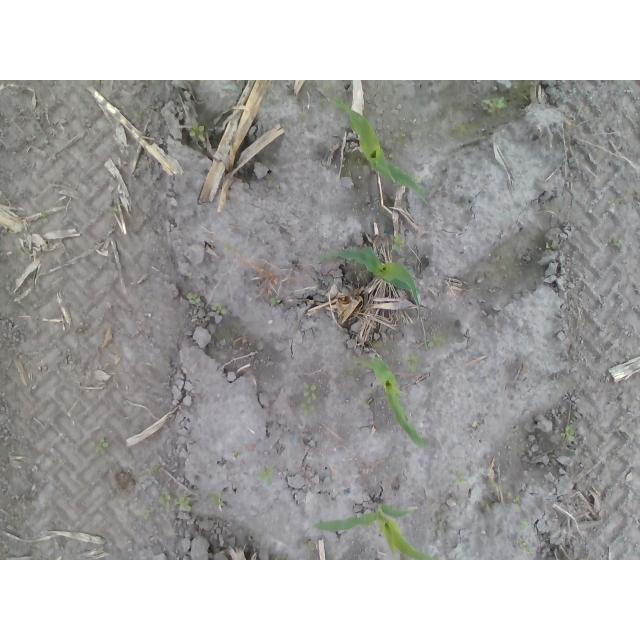Maize: (319, 97, 430, 204), (313, 247, 424, 313), (352, 357, 427, 452), (313, 505, 438, 560)
Weeds: (253, 464, 275, 484), (482, 96, 505, 113), (88, 437, 109, 454), (403, 354, 421, 373), (390, 234, 407, 251), (301, 398, 315, 417), (176, 496, 192, 512), (190, 125, 206, 141), (303, 382, 317, 400), (427, 335, 446, 348), (560, 425, 576, 440), (157, 492, 171, 509), (453, 470, 468, 484), (211, 303, 226, 316), (212, 492, 225, 506), (187, 292, 201, 305), (38, 210, 49, 224), (519, 519, 530, 532), (546, 242, 558, 253), (613, 237, 624, 248), (139, 509, 151, 519), (608, 197, 622, 205), (269, 295, 279, 306), (274, 553, 287, 560), (524, 546, 533, 555), (322, 82, 332, 90), (106, 206, 119, 212), (134, 110, 143, 118), (512, 496, 520, 505), (411, 174, 420, 181), (233, 450, 240, 458), (276, 184, 281, 193)
